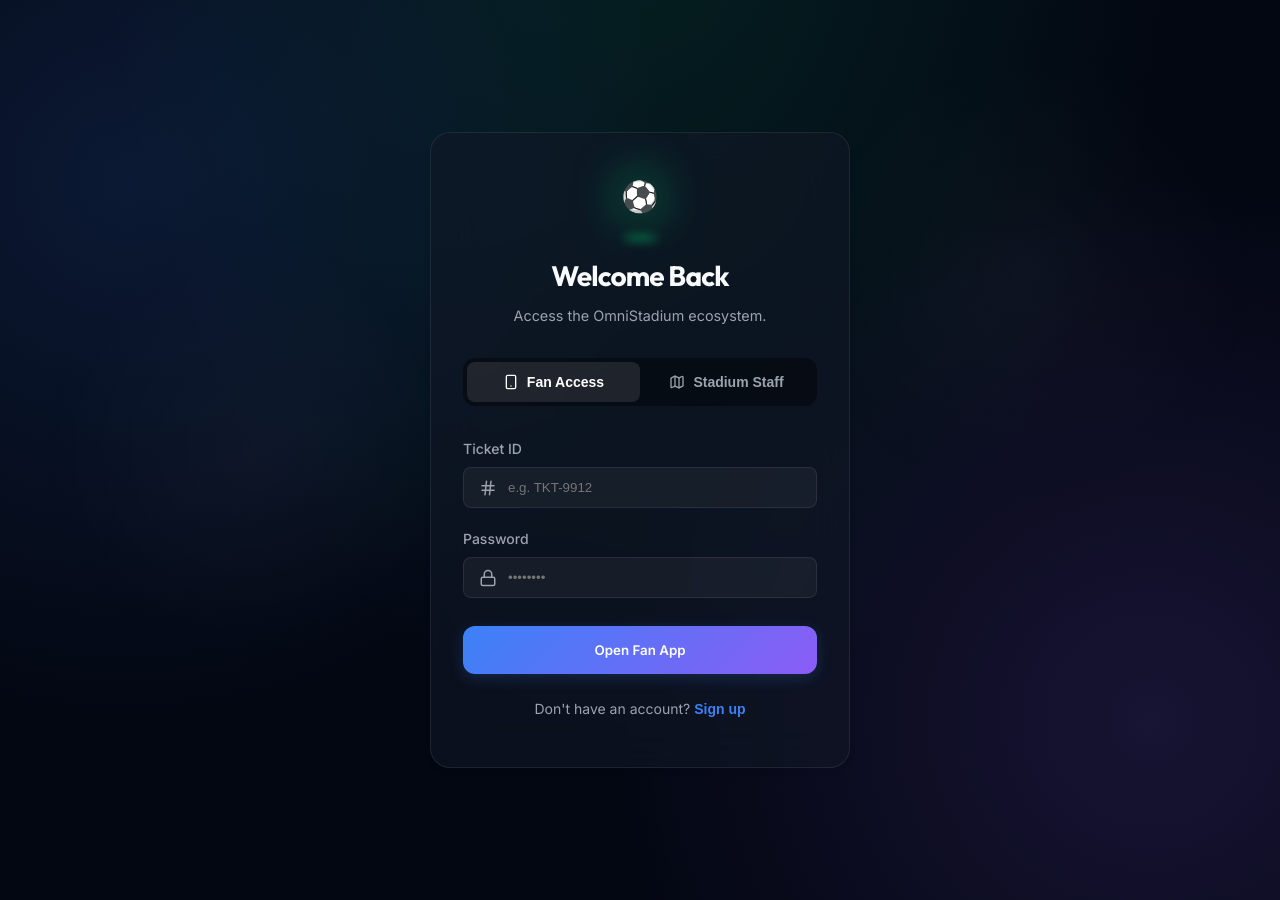
Scenario: Login Component › switches to staff login when clicking Stadium Staff
The width and height of the screenshot is (1280, 900).
What coordinates should you click on to do the following:
click the button "Stadium Staff"
I would click on:
 (726, 382)
Its box is left=640, top=362, right=813, bottom=402.
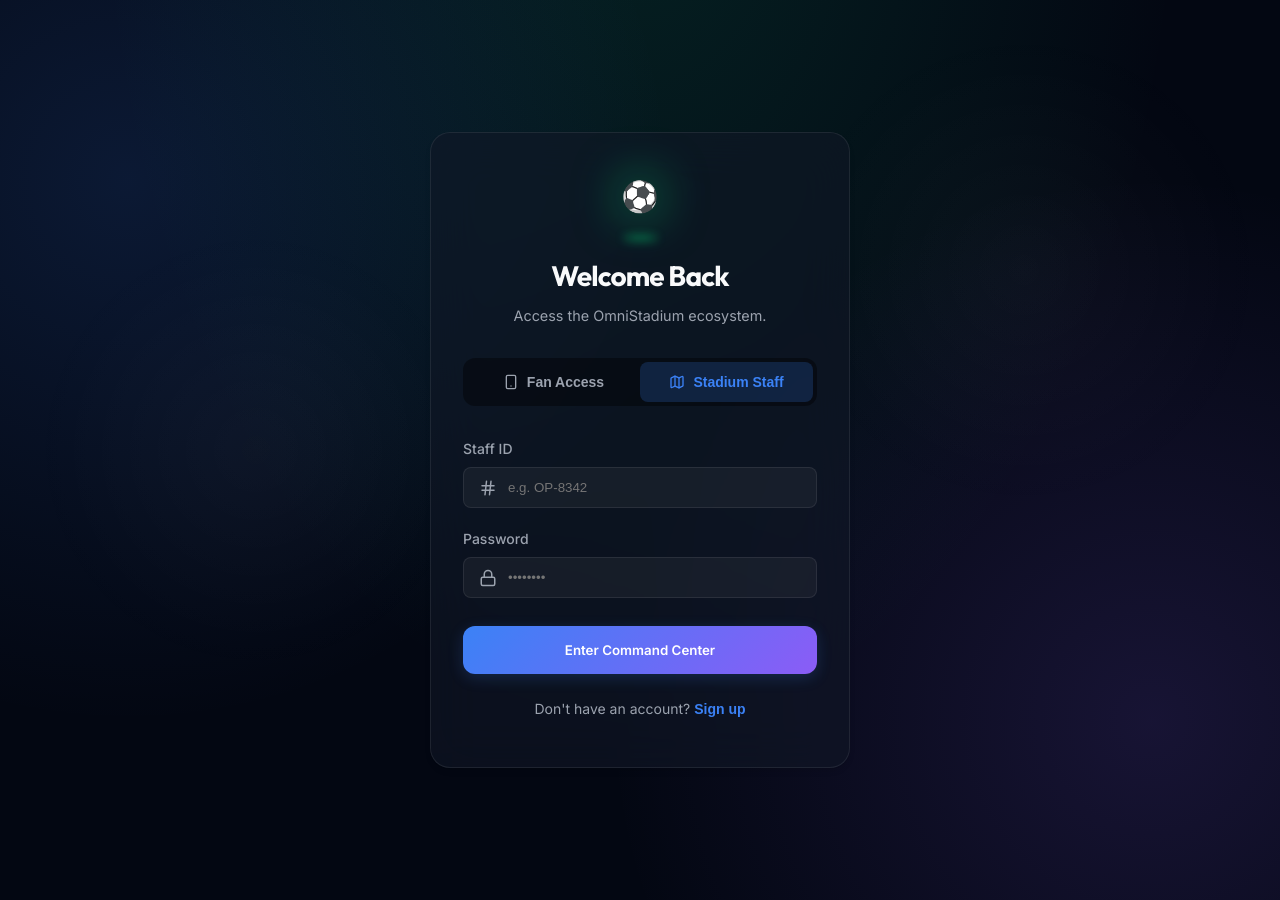
Result: the field with placeholder "e.g. OP-8342" is shown at left=463, top=467, right=817, bottom=508
